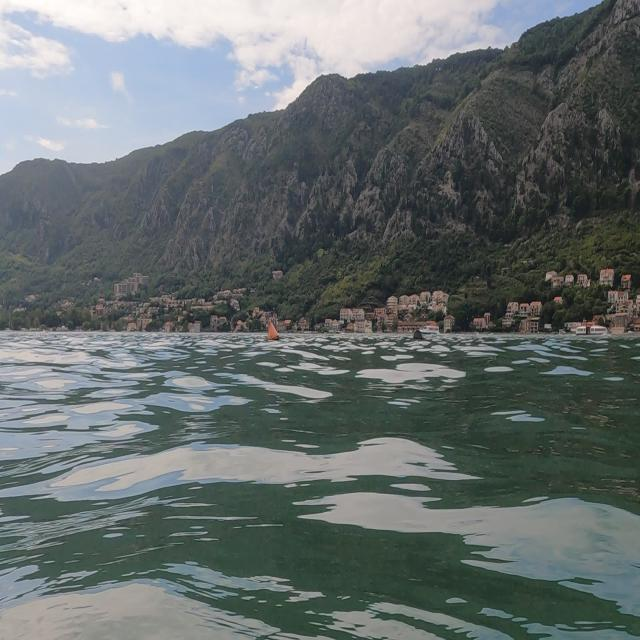buoy: (411, 322, 432, 357), (263, 314, 284, 346)
